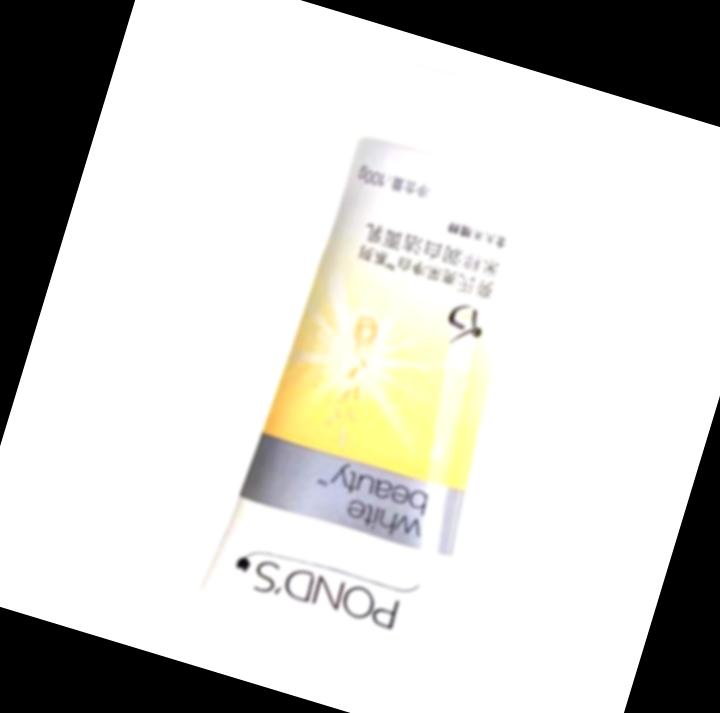cosmetic: (181, 42, 604, 704)
